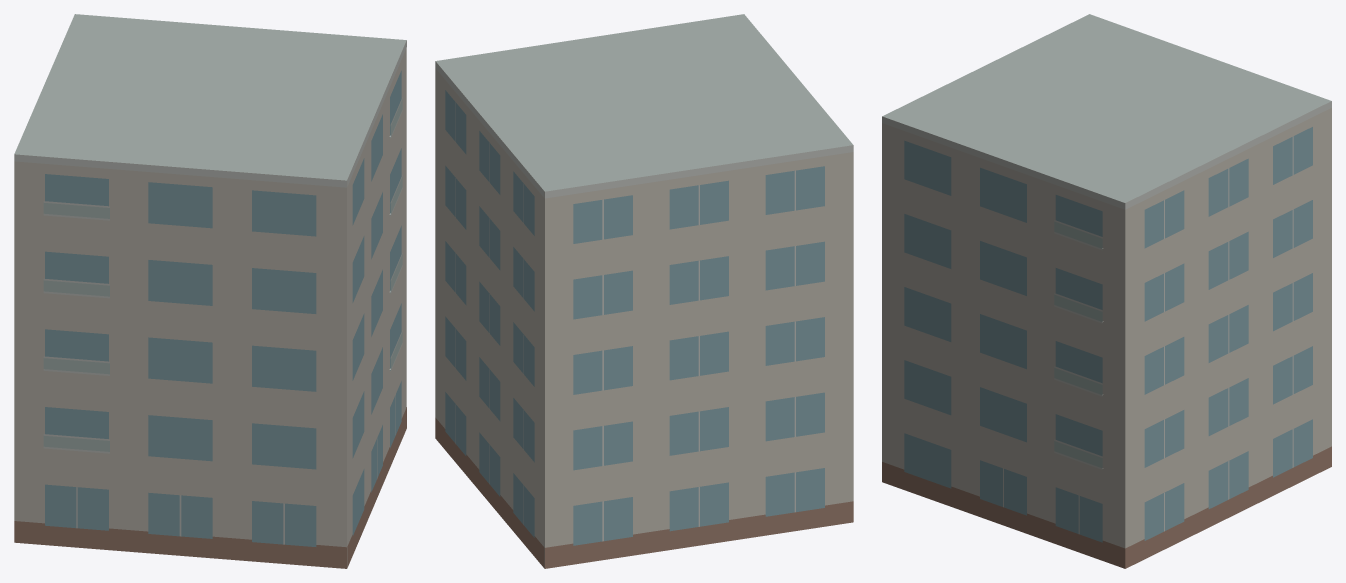
File: survey-upis-32956934.glb
3 views of the same model, side by side, from view 1: azimuth 30°, elevation 25°; view 2: azimuth 150°, elevation 25°; view 3: azimuth 270°, elevation 25° (orthographic). The views are drawn at different scales.
Parts seen in each view (by area): view 1: survey-upis-32956934.tmp; view 2: survey-upis-32956934.tmp; view 3: survey-upis-32956934.tmp.
Part boxes in pixels (x1,y1,x2,y2): survey-upis-32956934.tmp: [14, 14, 406, 568]; survey-upis-32956934.tmp: [435, 14, 853, 568]; survey-upis-32956934.tmp: [882, 14, 1331, 568].
Size of the model in its own units: 14.87 by 13.4 by 14.94.
